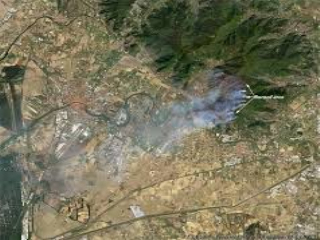smoke: (172, 80, 255, 130)
